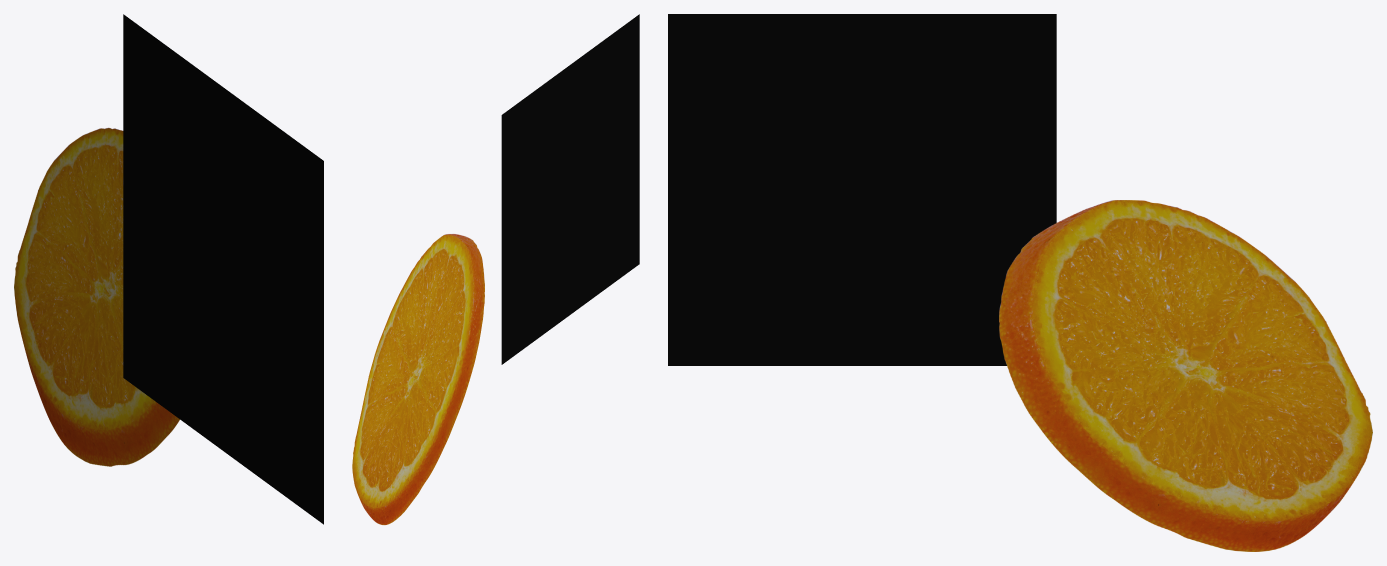
The model's file is objek.glb.
3 views of the same model, side by side, from view 1: azimuth 30°, elevation 25°; view 2: azimuth 150°, elevation 25°; view 3: azimuth 270°, elevation 25° (orthographic). The views are drawn at different scales.
Parts seen in each view (by area): view 1: fotoshoptofs-music-note-1275650_1920, ancelin-fruit-1220361_1280; view 2: fotoshoptofs-music-note-1275650_1920, ancelin-fruit-1220361_1280; view 3: fotoshoptofs-music-note-1275650_1920, ancelin-fruit-1220361_1280.
Boxes of the visible parts, box(x1,y1,x2,y2) form: fotoshoptofs-music-note-1275650_1920: box(123, 14, 323, 524); ancelin-fruit-1220361_1280: box(14, 127, 179, 466); fotoshoptofs-music-note-1275650_1920: box(501, 14, 639, 364); ancelin-fruit-1220361_1280: box(352, 234, 484, 525); fotoshoptofs-music-note-1275650_1920: box(668, 14, 1056, 365); ancelin-fruit-1220361_1280: box(999, 200, 1372, 551).
Bounding box in the file's own units: 0.156 × 1.46 × 1.81.
Materials: 2 (2 with a texture image).
